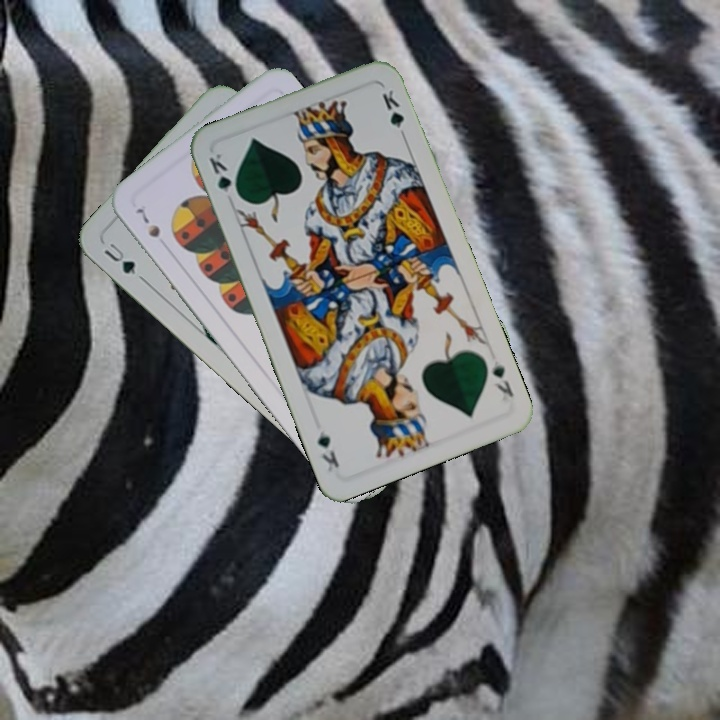GK: (205, 149, 243, 202), (488, 356, 516, 400)
GU: (100, 239, 139, 277)
S7: (133, 204, 163, 241)
